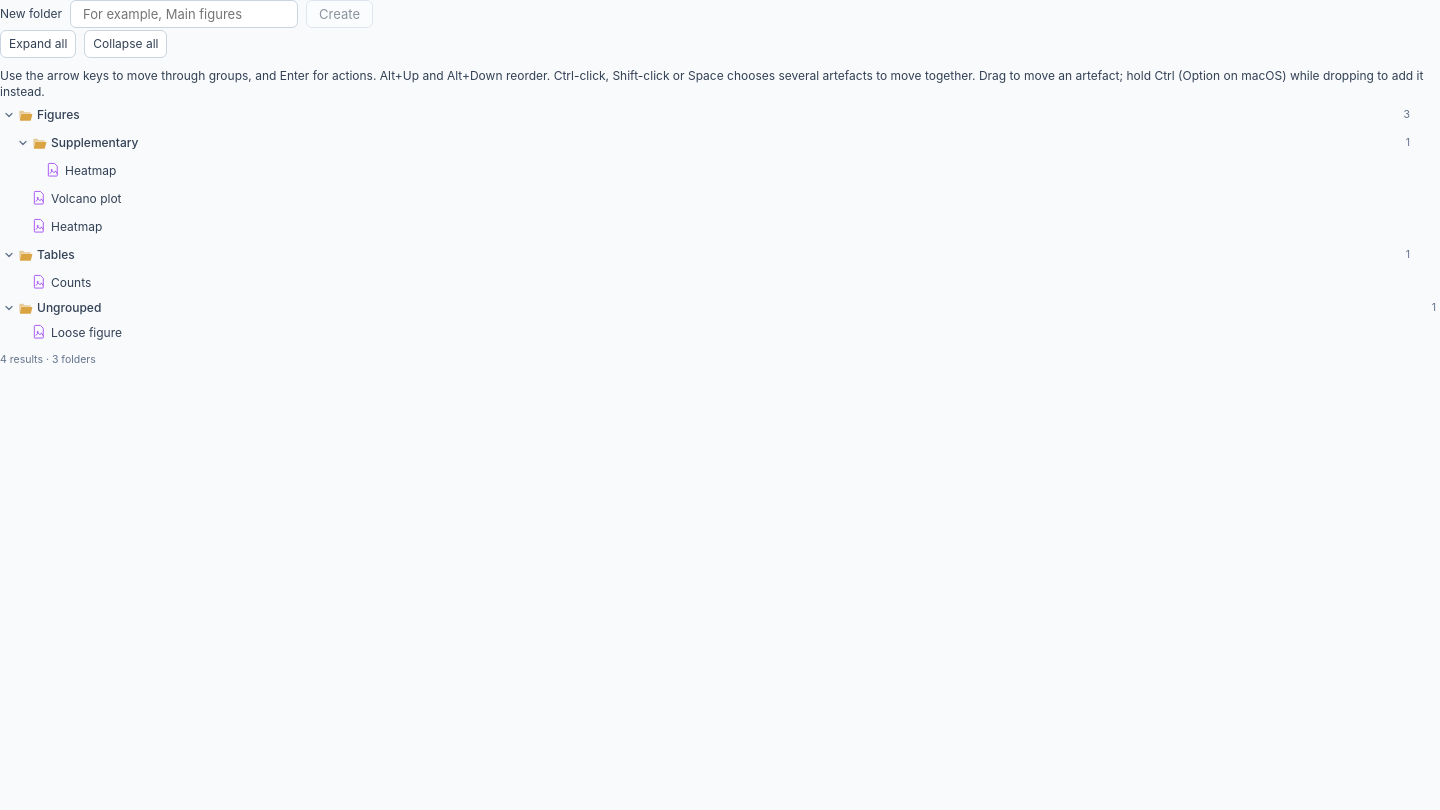
Test: ResultsTree: removing a file from the notebook › says so when the file could not be removed
Step 1. Right-click the list item "Volcano plot" → (77, 198), box [32,190,122,206]
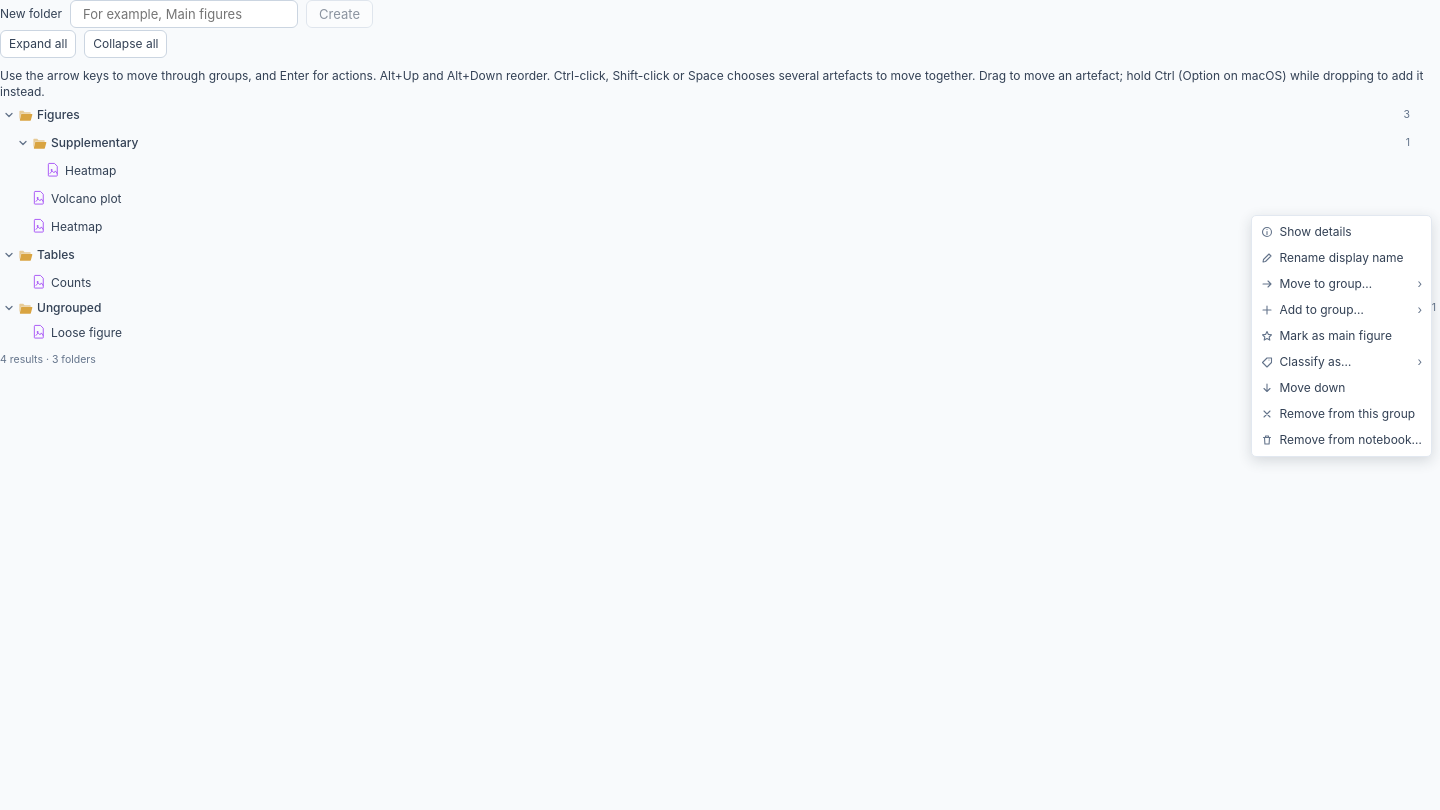
Step 2. Click the menu item "Remove from notebook…" → click(1342, 440), box [1256,427,1428,453]
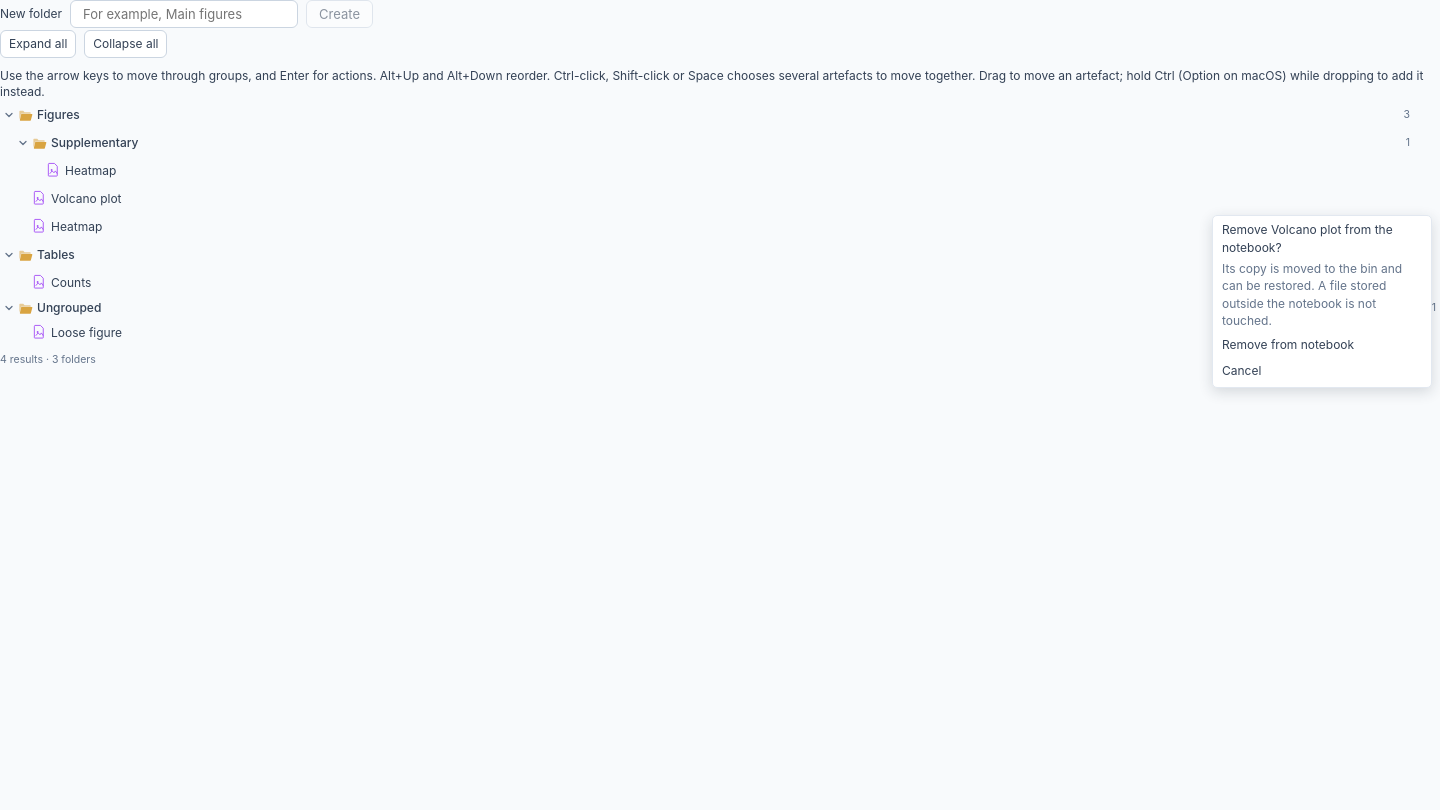
Step 3. Click the button "Remove from notebook" → click(1322, 344), box [1216,332,1428,358]
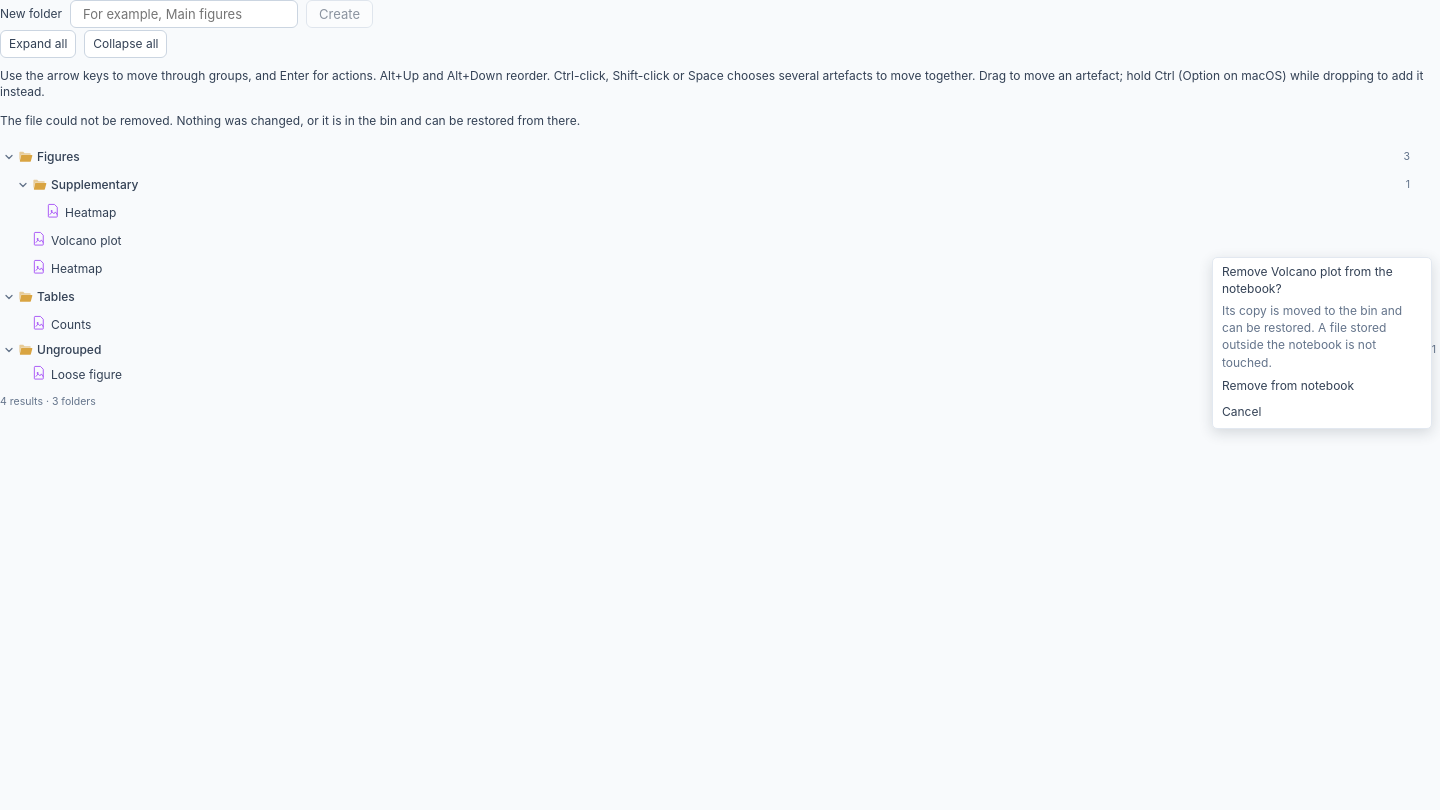
expect the text "could not be removed" is shown: met, box [0,113,580,128]
